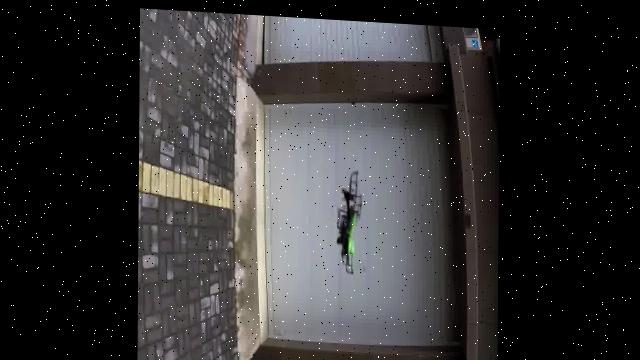drone: (338, 169, 364, 274)
